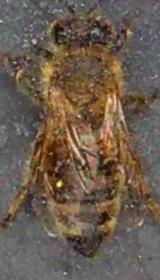varroa_mite: (88, 138, 115, 160)
